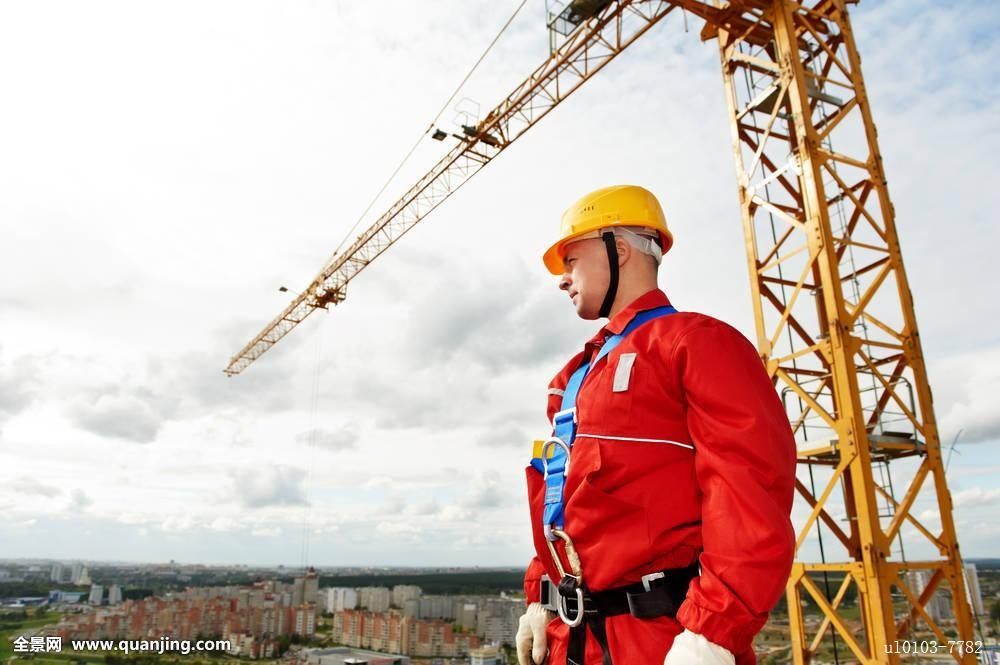yellow: (542, 185, 675, 325)
